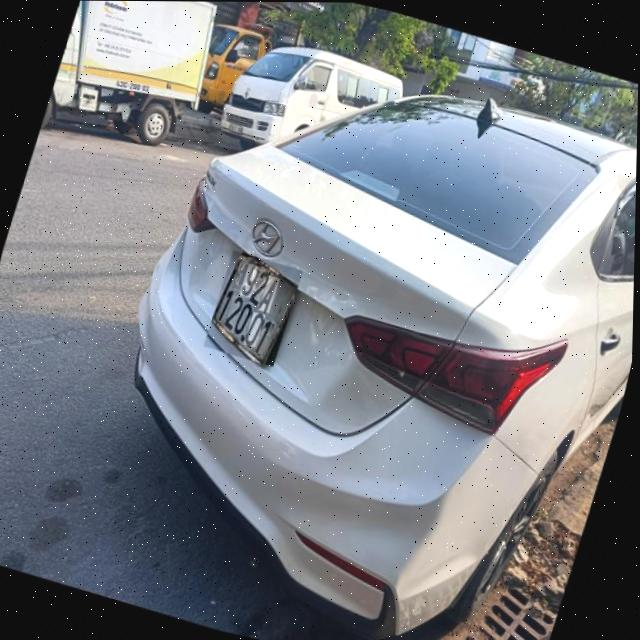car: (88, 32, 639, 640), (33, 0, 244, 170), (208, 28, 407, 184)
plate: (199, 249, 304, 372)
